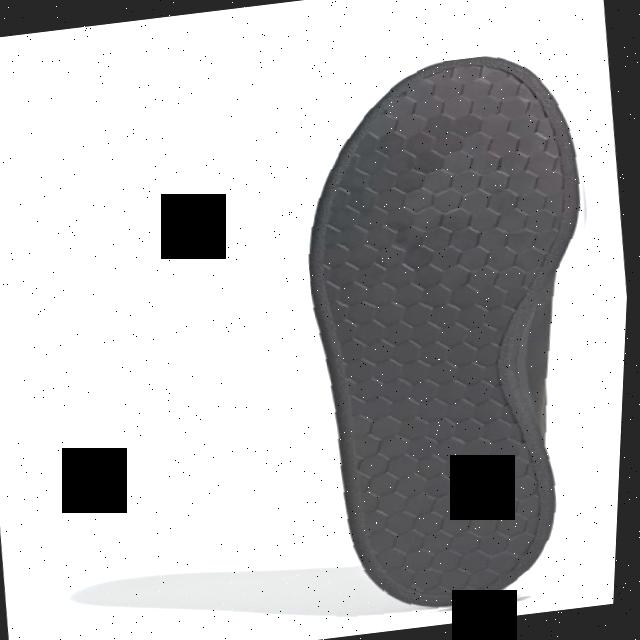shoe: (275, 44, 638, 627)
